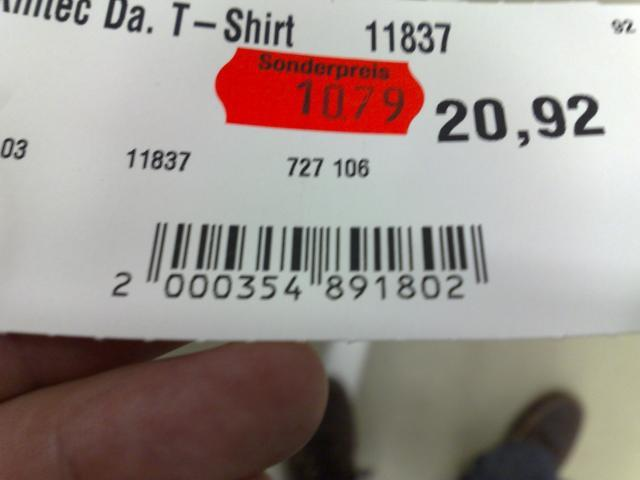Barcode: (95, 201, 518, 332)
